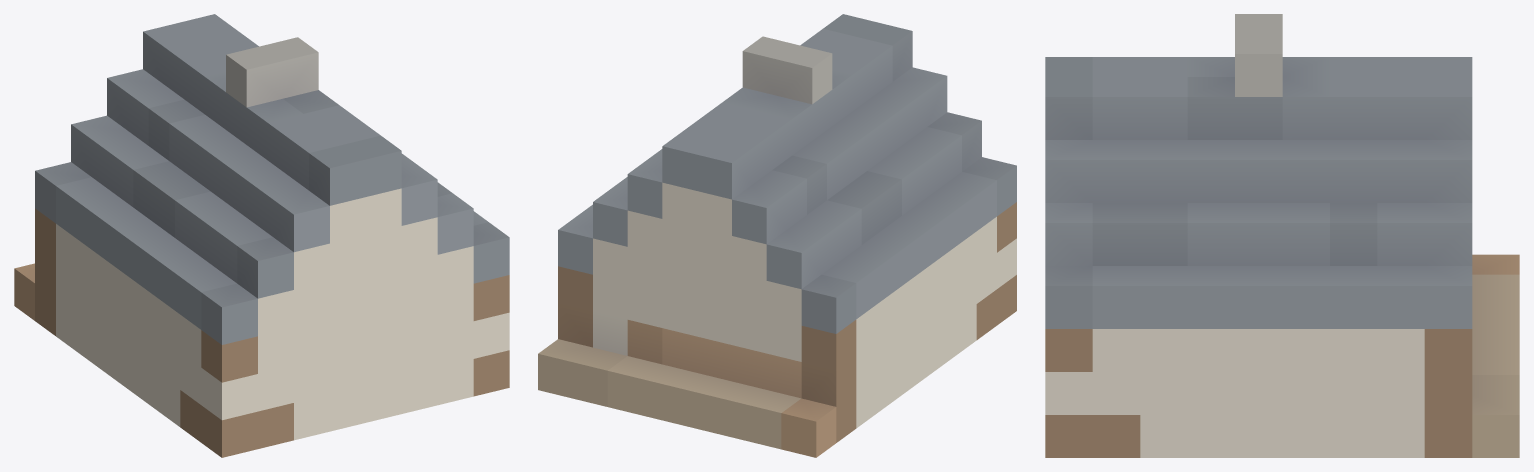
The model's file is brickworks.lite.glb.
3 views of the same model, side by side, from view 1: azimuth 30°, elevation 25°; view 2: azimuth 150°, elevation 25°; view 3: azimuth 270°, elevation 25° (orthographic). The views are drawn at different scales.
Parts seen in each view (by area): view 1: brickworks; view 2: brickworks; view 3: brickworks.
Boxes of the visible parts, x1,y1,x2,y2 form: brickworks: [14, 14, 509, 457]; brickworks: [538, 14, 1016, 457]; brickworks: [1045, 14, 1519, 457].
Bounding box in the file's own units: 4 × 4 × 5.
